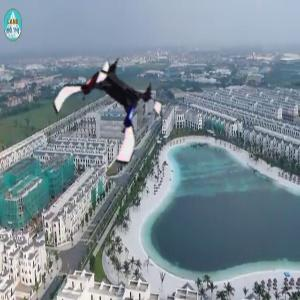drone: (53, 52, 163, 162)
